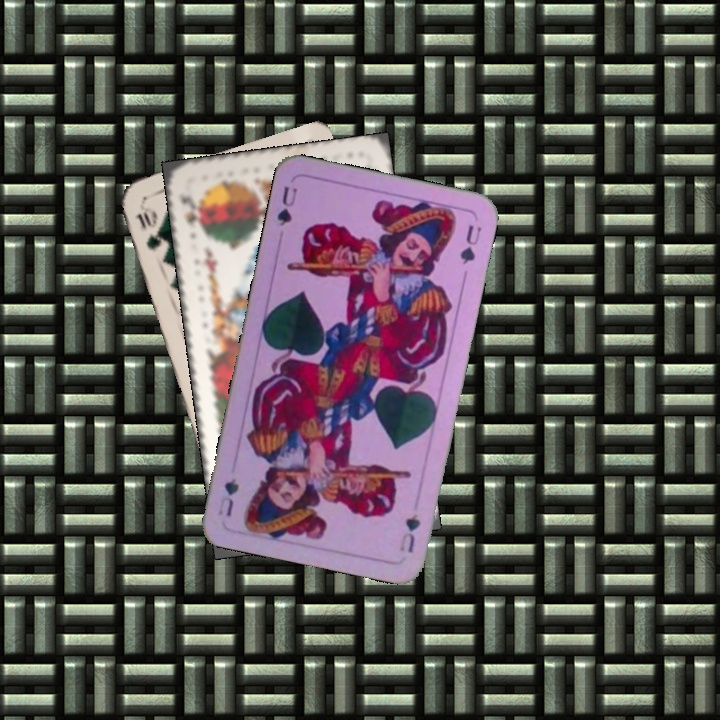G10: (133, 199, 165, 254)
GU: (273, 182, 300, 229), (395, 510, 423, 555)
SK: (176, 191, 205, 237)
